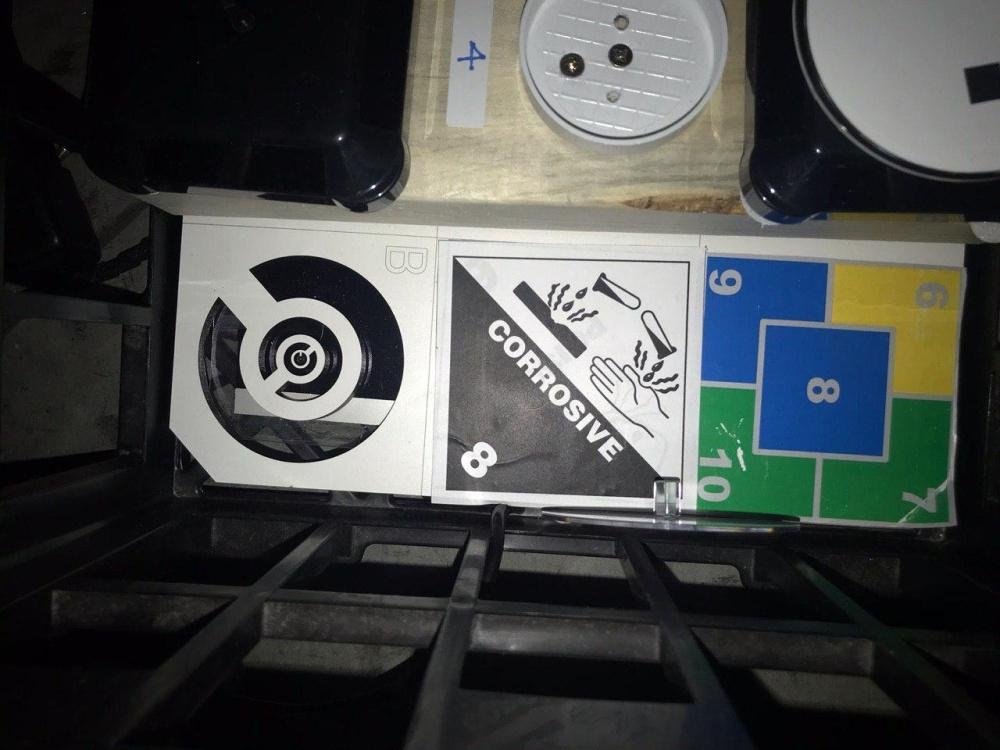corrosive: (430, 234, 699, 513)
